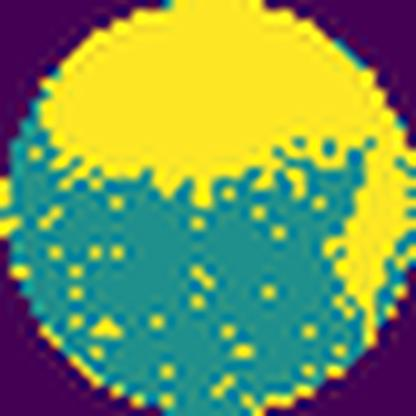Edge-Loc: (36, 0, 416, 345)
